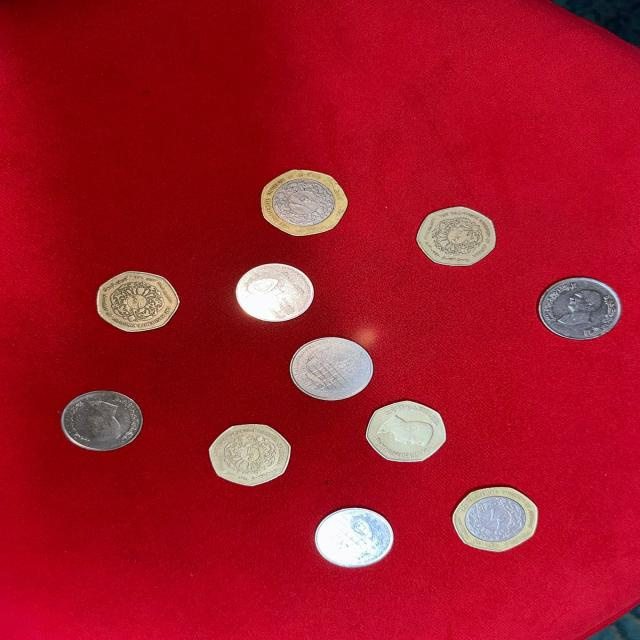10-coins: (286, 337, 378, 402), (539, 276, 622, 339)
25-coins: (414, 204, 505, 270), (365, 399, 452, 466), (208, 426, 297, 487), (95, 272, 182, 334)
5-coins: (63, 390, 146, 455), (310, 506, 396, 568), (235, 262, 316, 322)
50-coins: (258, 167, 353, 239), (455, 482, 540, 555)
